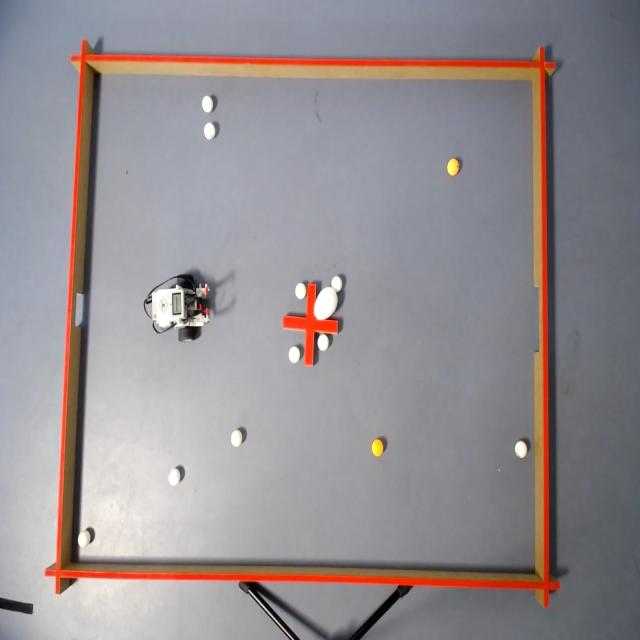boundaries: (44, 34, 95, 600), (43, 560, 564, 614), (68, 37, 559, 86), (525, 43, 562, 618)
cross: (283, 280, 339, 366)
egg: (314, 286, 338, 320)
large_goal: (525, 270, 555, 376)
orange_ball: (370, 439, 387, 461), (446, 158, 463, 179)
robot: (142, 269, 218, 348)
small_goal: (64, 275, 96, 347)
white_ball: (74, 524, 94, 552), (167, 460, 184, 491), (513, 439, 530, 462), (202, 120, 218, 144), (288, 343, 302, 367), (201, 93, 215, 116), (230, 427, 244, 449), (328, 274, 345, 292), (318, 332, 330, 354), (294, 280, 306, 302)
